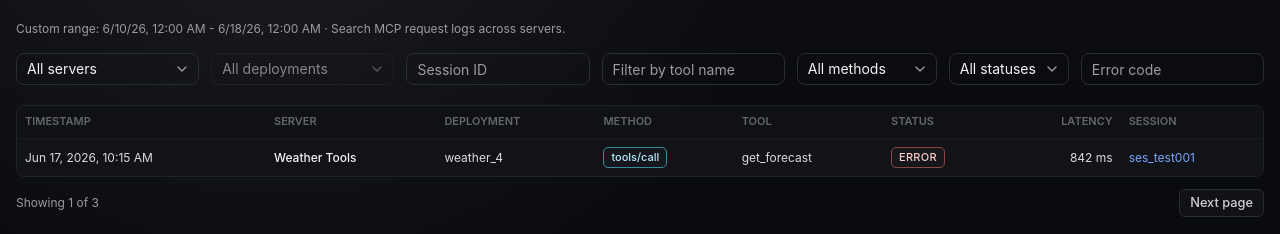
it: LogsTable › paginates logs with previous and next page buttons
Expected: the text "Showing 1 of 3" is shown, [16,194,99,212]
Expected: the link with test id "log-row-log_test003" is shown, [17,138,1263,176]
Click the button "Next page": x=1222, y=203 [1179,189,1264,217]
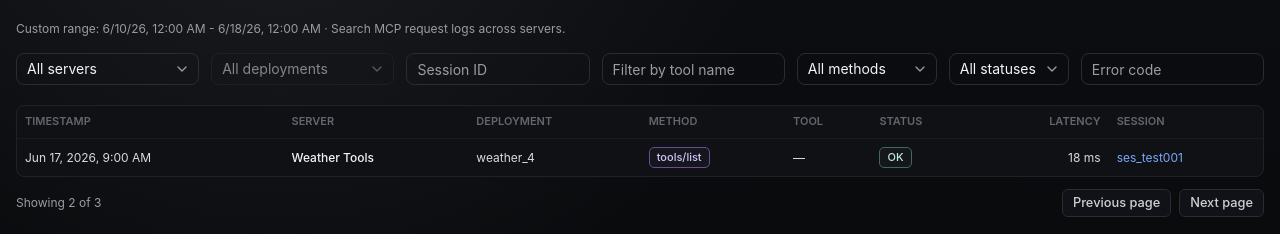
Expected: the text "Showing 2 of 3" is shown, [16,194,102,212]
Expected: the link with test id "log-row-log_test002" is shown, [17,138,1263,176]
Expected: the link with test id "log-row-log_test003" is gone
Click the button "Previous page": x=1117, y=203 [1062,189,1171,217]
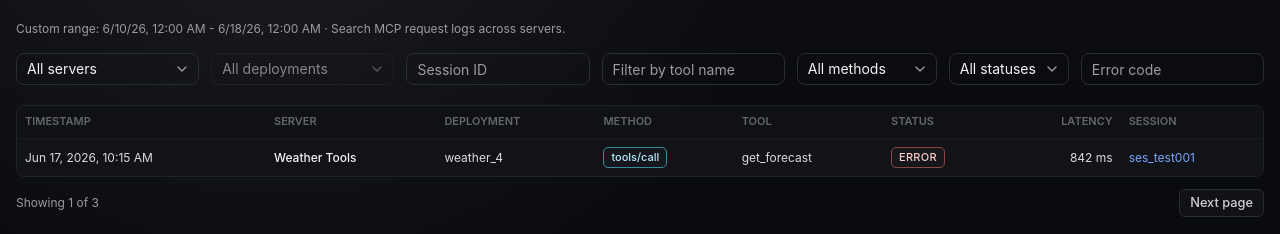
Expected: the text "Showing 1 of 3" is shown, [16,194,99,212]
Expected: the link with test id "log-row-log_test003" is shown, [17,138,1263,176]
